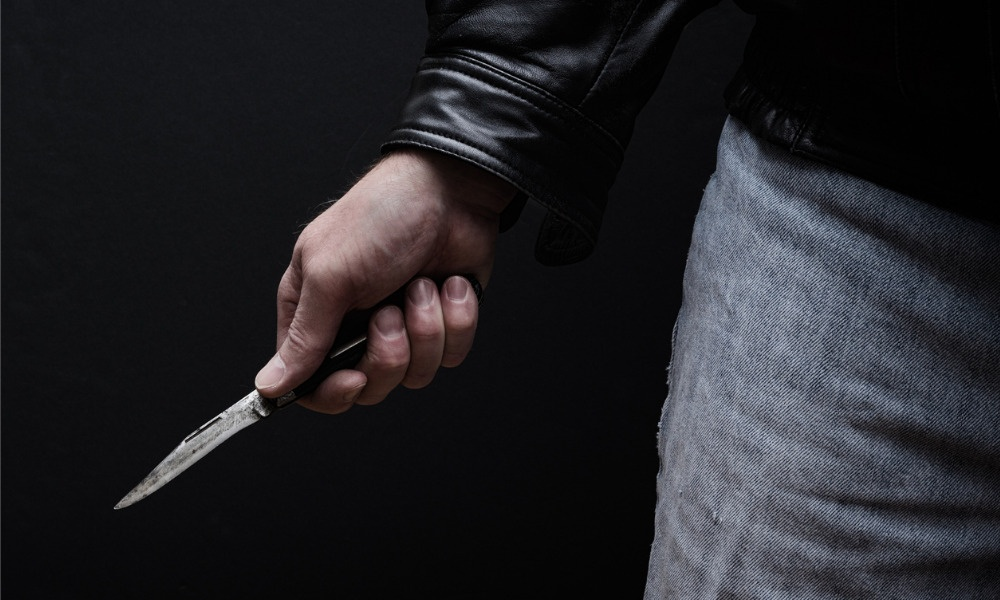knife: (107, 266, 486, 513)
